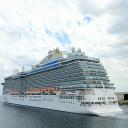cruises: (1, 47, 125, 119)
